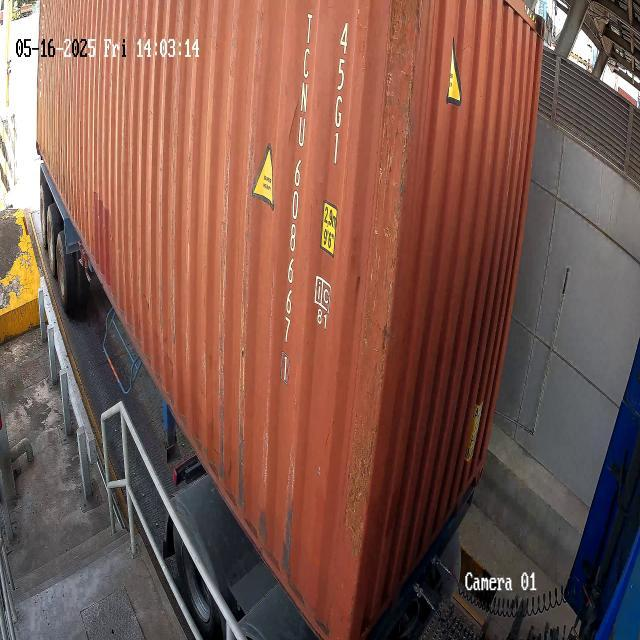ISO: (330, 21, 352, 158)
container_number: (272, 11, 318, 390)
